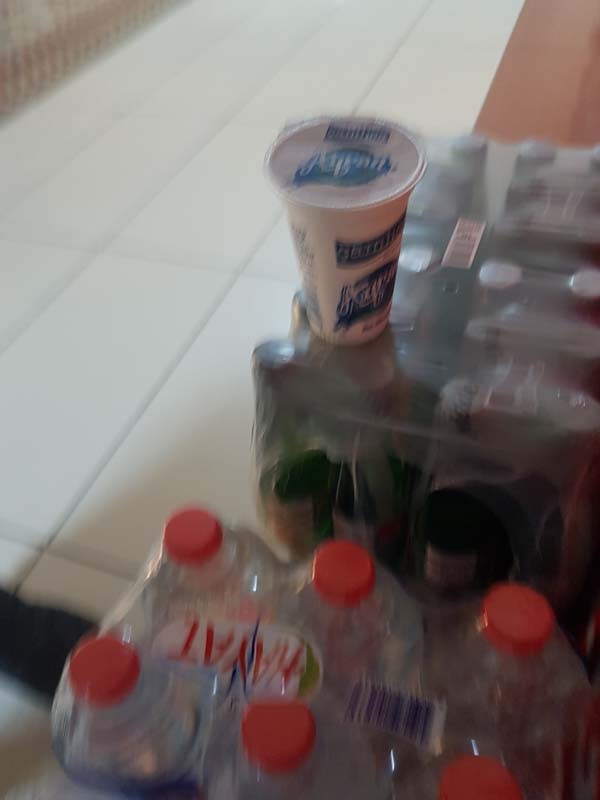camlicaayran: (262, 109, 433, 347)
